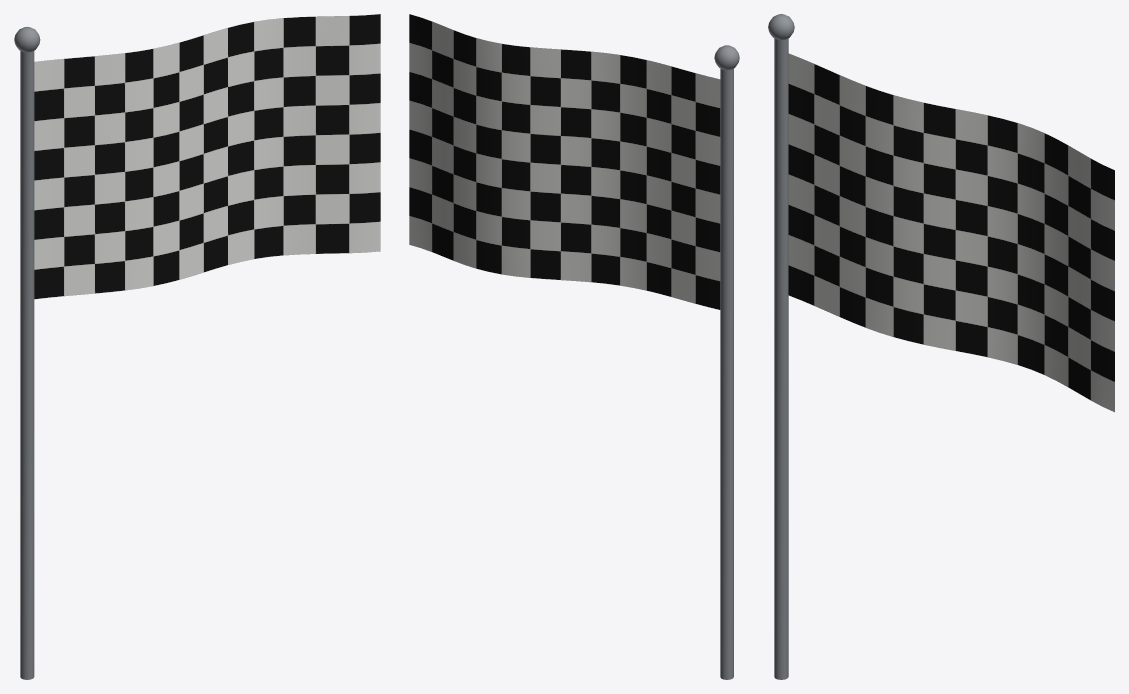
The model's file is chequered-flag.glb.
3 views of the same model, side by side, from view 1: azimuth 30°, elevation 25°; view 2: azimuth 150°, elevation 25°; view 3: azimuth 330°, elevation 25° (orthographic). The views are drawn at different scales.
Visible parts, largest first — view 1: Chequered_Flag; view 2: Chequered_Flag; view 3: Chequered_Flag.
Boxes of the visible parts, <box> form: Chequered_Flag: <box>14,14,380,679</box>; Chequered_Flag: <box>409,14,739,679</box>; Chequered_Flag: <box>768,14,1114,679</box>.
Size of the model in its own units: 0.93 by 1.64 by 0.0905.
2 materials, 1 textured.
